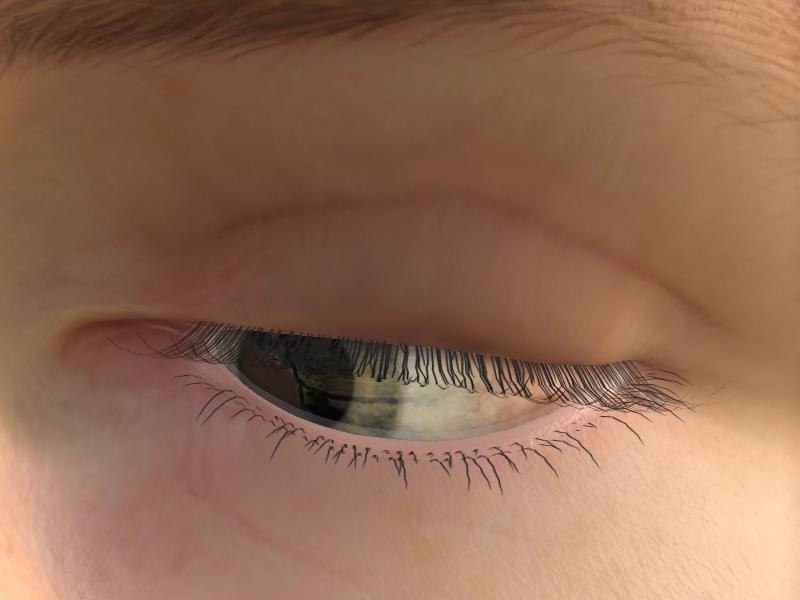eye: (214, 322, 402, 436)
